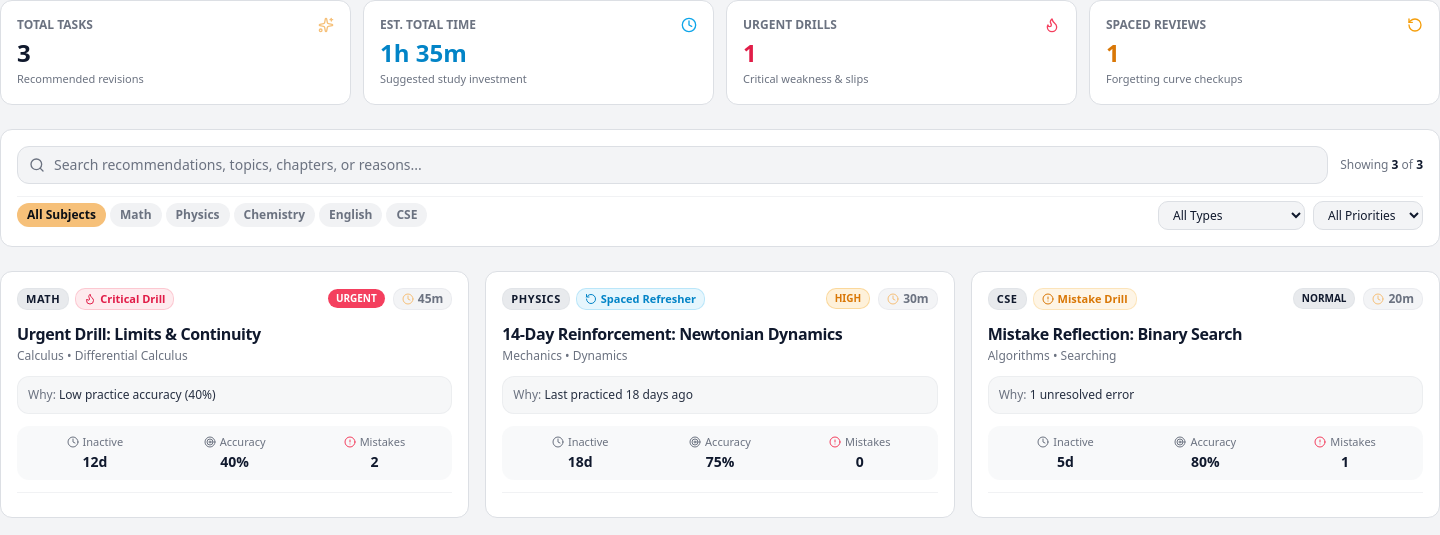
it: RevisionRecommendationsList › filters recommendations by priority select dropdown
Select "Urgent" in the dropdown named "Filter by priority" at {"x": 1368, "y": 215}, box [1313,200,1423,230]
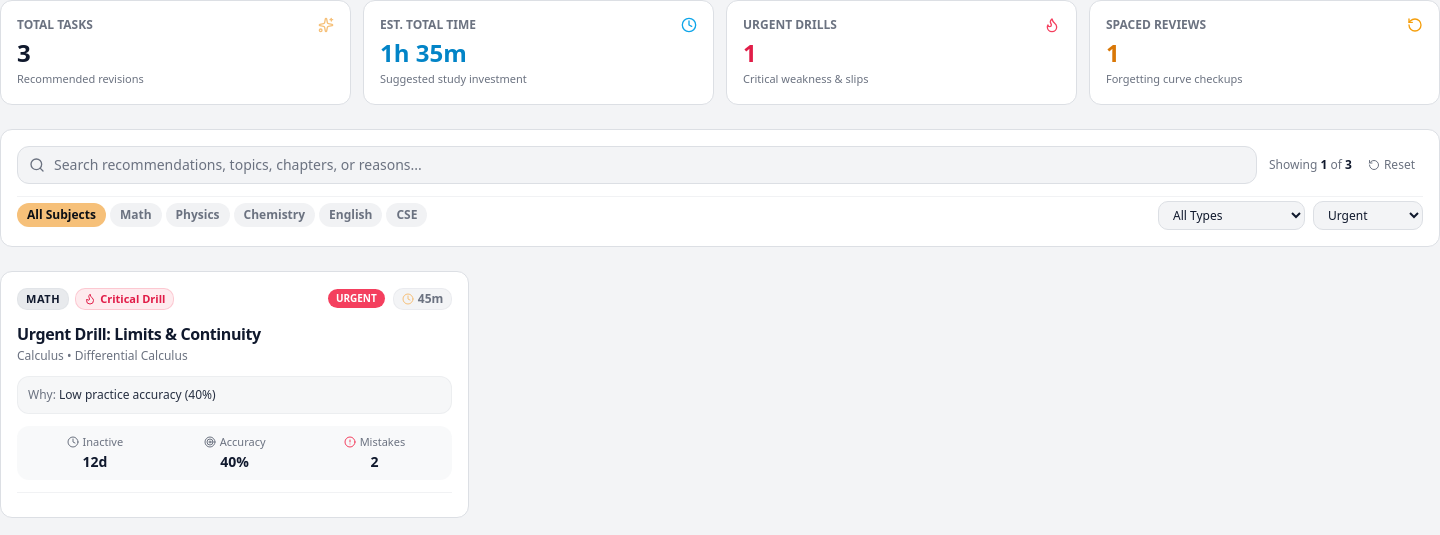
Expected: the heading "Urgent Drill: Limits & Continuity" is shown, [17,323,261,345]
Expected: the heading "14-Day Reinforcement: Newtonian Dynamics" is gone
